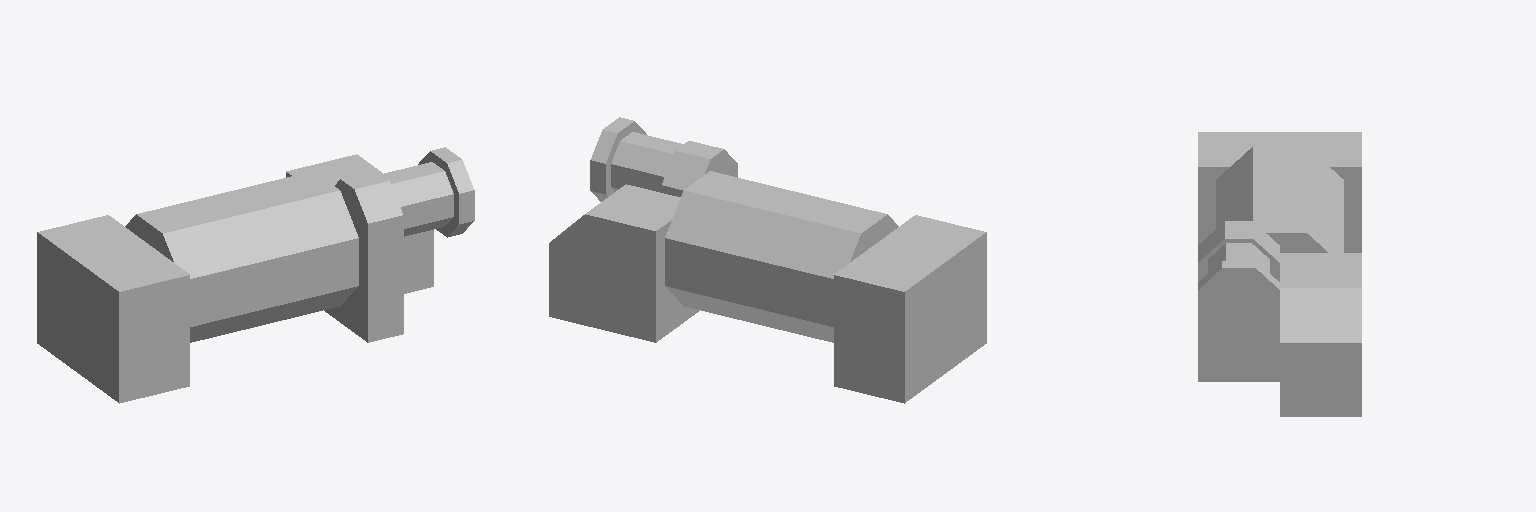
Rendered from ballMill.obj.
The picture shows the model from 3 angles: view 1: azimuth 30°, elevation 25°; view 2: azimuth 150°, elevation 25°; view 3: azimuth 270°, elevation 25°; orthographic projection.
Visible parts, largest first — view 1: SSBallMill_Machine, SSBallMill_Barrel; view 2: SSBallMill_Machine, SSBallMill_Barrel; view 3: SSBallMill_Machine, SSBallMill_Barrel.
Boxes of the visible parts, <box> form: SSBallMill_Machine: <box>37,147,474,403</box>; SSBallMill_Barrel: <box>125,171,358,342</box>; SSBallMill_Machine: <box>549,117,986,403</box>; SSBallMill_Barrel: <box>665,171,898,342</box>; SSBallMill_Machine: <box>1198,132,1361,416</box>; SSBallMill_Barrel: <box>1216,146,1343,252</box>.
Bounding box in the file's own units: 5 × 2 × 2.